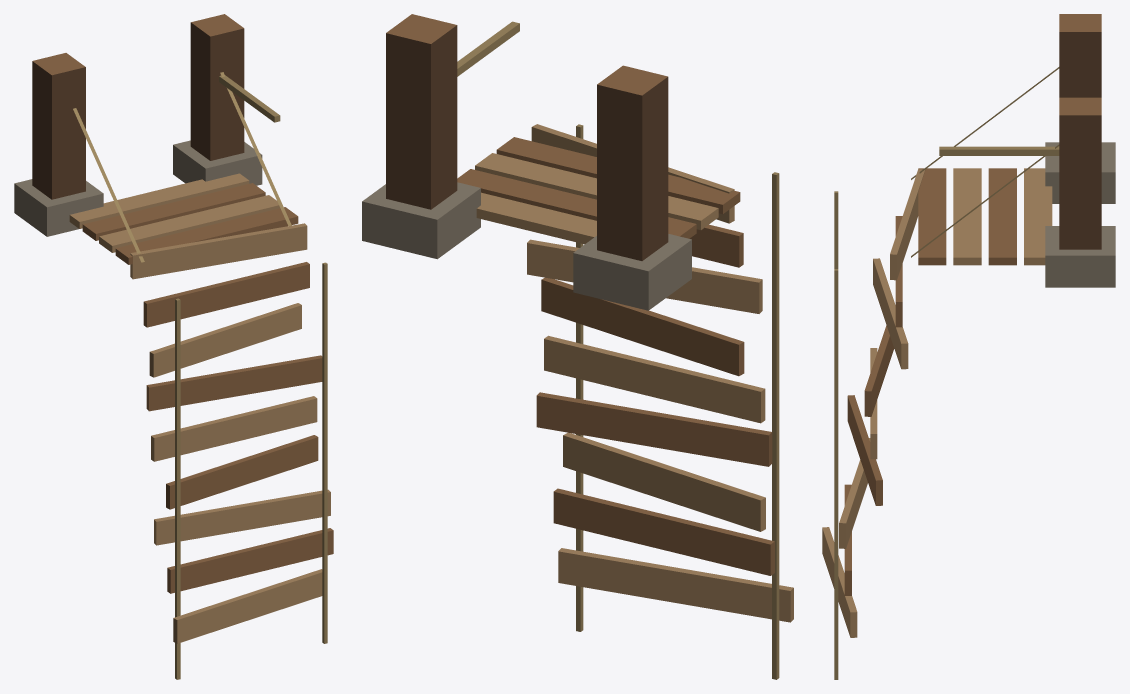
Rendered from bridge_broken.glb.
3 views of the same model, side by side, from view 1: azimuth 30°, elevation 25°; view 2: azimuth 150°, elevation 25°; view 3: azimuth 270°, elevation 25° (orthographic). The views are drawn at different scales.
Parts seen in each view (by area): view 1: bridge_broken; view 2: bridge_broken; view 3: bridge_broken.
Part boxes in pixels (x1,y1,x2,y2): bridge_broken: (14,14,333,679); bridge_broken: (362,14,793,679); bridge_broken: (822,14,1115,679).
Size of the model in its own units: 1.9 by 4.5 by 2.08.
